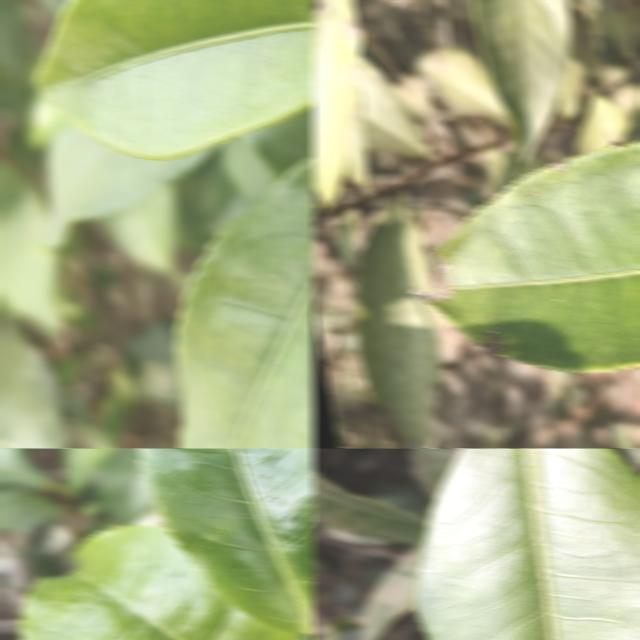Leaf: (427, 142, 640, 370), (35, 0, 315, 158), (413, 448, 640, 640), (174, 157, 315, 448), (139, 448, 315, 633), (19, 525, 302, 640), (355, 201, 442, 448), (45, 125, 218, 245), (474, 0, 572, 160), (311, 0, 363, 205), (0, 190, 62, 332), (311, 468, 427, 543), (0, 322, 69, 448), (359, 56, 431, 157), (415, 47, 510, 123), (360, 543, 423, 640), (0, 489, 63, 530), (62, 448, 120, 492), (0, 448, 54, 486)
